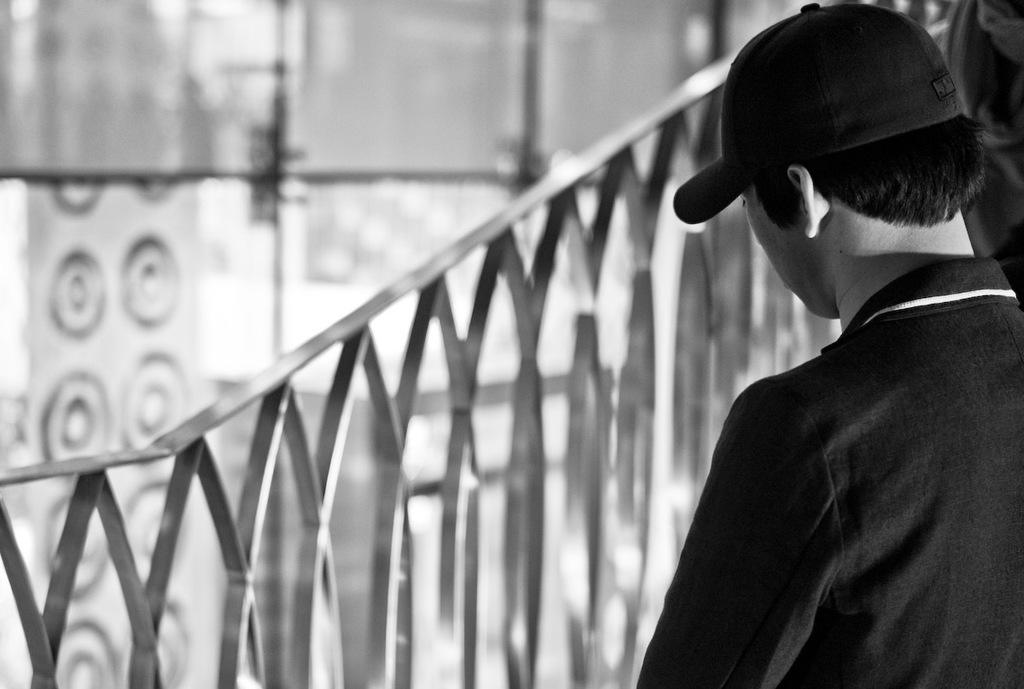Hat: (672, 2, 972, 225)
